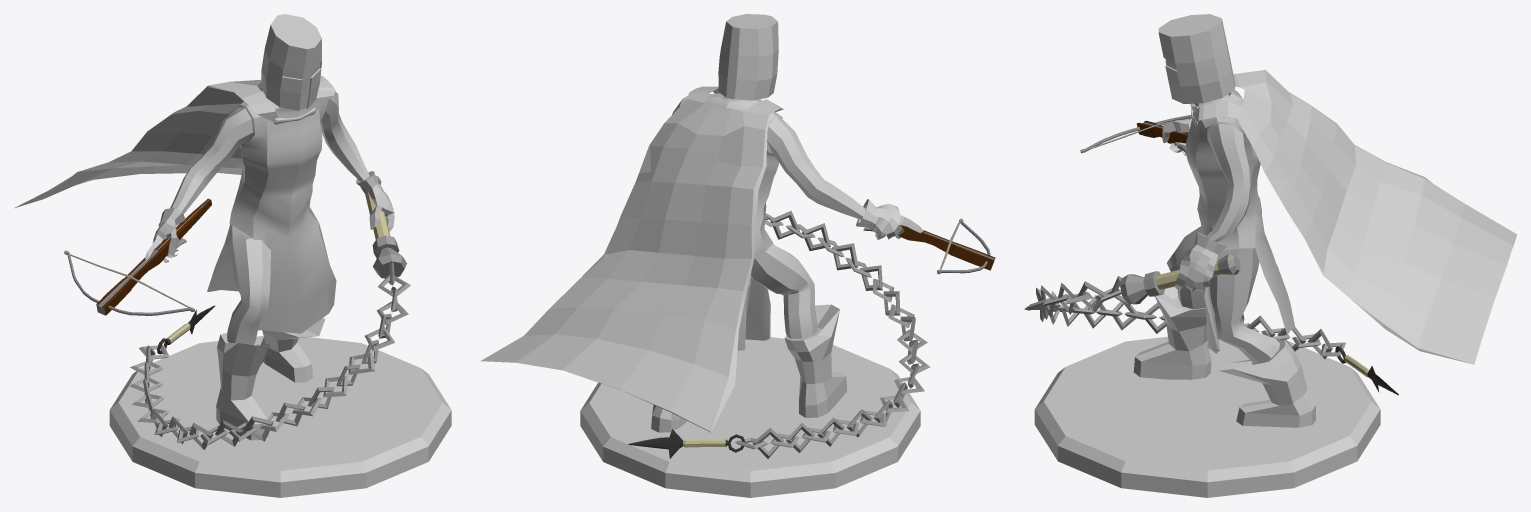
The model's file is Templar_Crossbow_Hook.fbx.
3 renders of one model, left to right at view 1: azimuth 30°, elevation 25°; view 2: azimuth 150°, elevation 25°; view 3: azimuth 270°, elevation 25°, orthographic.
Visible parts, largest first — view 1: Templar_Crossbow_Hook, pasted__polySurface25, polySurface46, pasted__pasted__pasted__pasted__pasted__pCube3, pasted__pasted__polySurface7; view 2: polySurface46, pasted__polySurface25, Templar_Crossbow_Hook, pasted__pasted__pasted__pasted__pasted__pCube3, pasted__pasted__polySurface7; view 3: polySurface46, pasted__polySurface25, Templar_Crossbow_Hook, pasted__pasted__pasted__pasted__pasted__pCube3, pasted__pasted__polySurface7.
Part boxes in pixels (x1,y1,x2,y2): Templar_Crossbow_Hook: (145, 14, 394, 440); pasted__polySurface25: (109, 336, 451, 497); polySurface46: (14, 75, 335, 208); pasted__pasted__pasted__pasted__pasted__pCube3: (129, 175, 410, 449); pasted__pasted__polySurface7: (64, 198, 211, 315); polySurface46: (480, 86, 783, 432); pasted__polySurface25: (580, 337, 920, 497); Templar_Crossbow_Hook: (651, 14, 924, 432); pasted__pasted__pasted__pasted__pasted__pCube3: (628, 210, 930, 458); pasted__pasted__polySurface7: (863, 218, 995, 274); polySurface46: (1195, 70, 1516, 364); pasted__polySurface25: (1034, 336, 1380, 497); Templar_Crossbow_Hook: (1133, 14, 1315, 427); pasted__pasted__pasted__pasted__pasted__pCube3: (1024, 253, 1398, 395); pasted__pasted__polySurface7: (1080, 115, 1191, 153).
Bounding box in the file's own units: 245 × 261 × 285.
